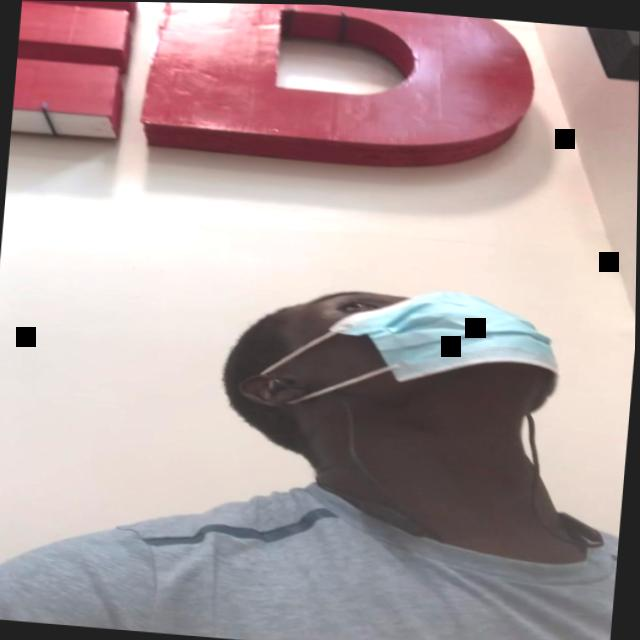Mask: (273, 274, 567, 418)
